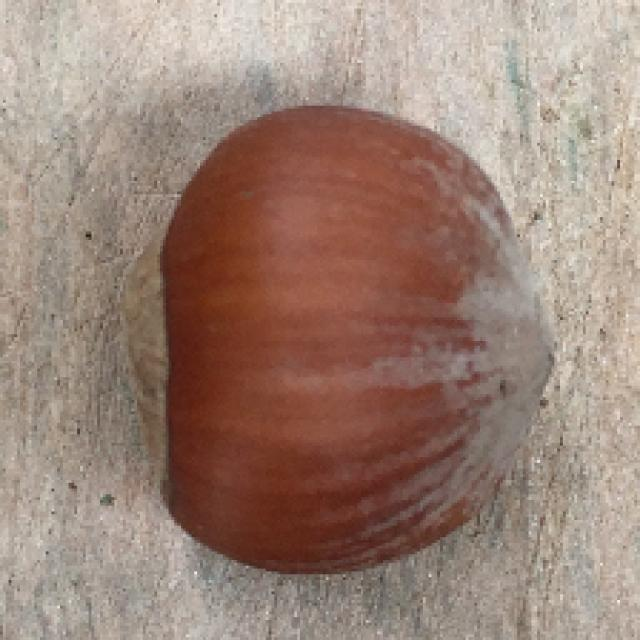qualityHazelnut: (105, 103, 565, 579)
